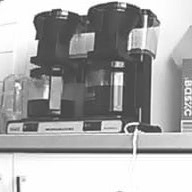not empty coffee: (79, 58, 137, 119)
